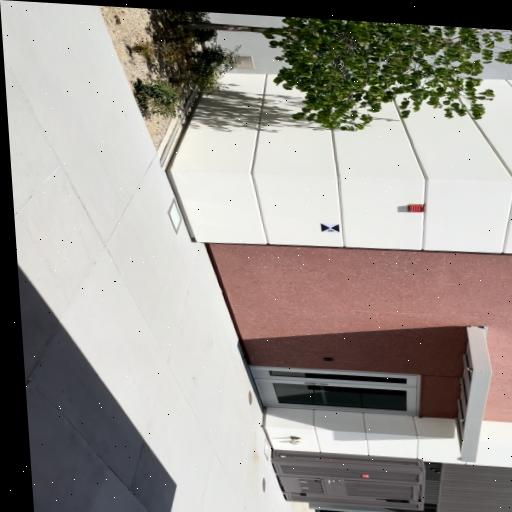target6: (320, 223, 340, 234)
